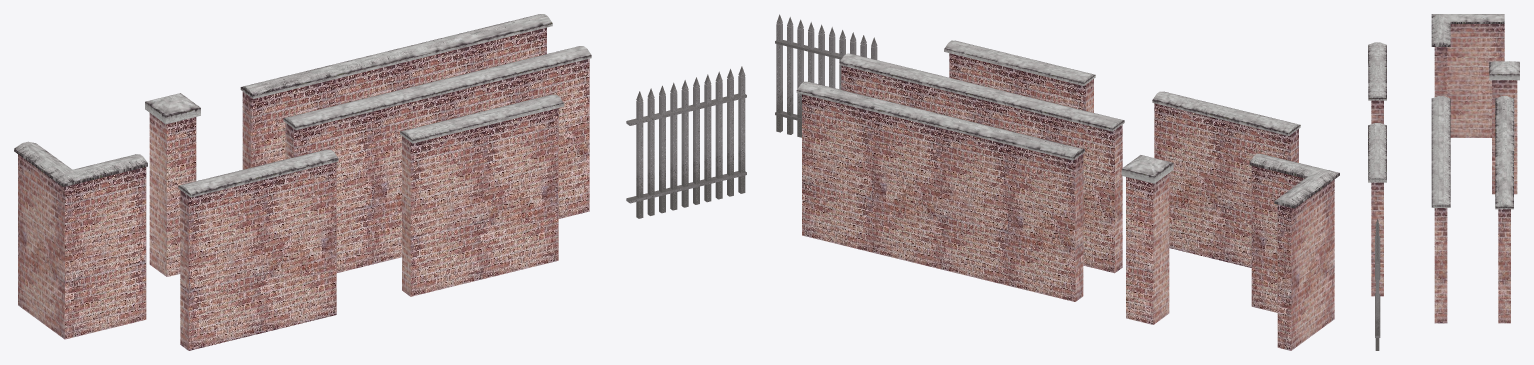
The model's file is brick_wall.glb.
The picture shows the model from 3 angles, left to right: view 1: azimuth 30°, elevation 25°; view 2: azimuth 150°, elevation 25°; view 3: azimuth 270°, elevation 25°; orthographic projection. The views are drawn at different scales.
Visible parts, largest first — view 1: brick_wall_one_overhang_small, brick_wall_small, brick_wall, brick_Wall_corner, brick_wall_one_overhang, brick_wall_gate, brick_wall_pole; view 2: brick_wall_one_overhang, brick_wall_small, brick_wall, brick_Wall_corner, brick_wall_pole, brick_wall_one_overhang_small, brick_wall_gate; view 3: brick_Wall_corner, brick_wall, brick_wall_one_overhang, brick_wall_one_overhang_small, brick_wall_pole, brick_wall_small, brick_wall_gate.
Part boxes in pixels (x1,y1,x2,y2): brick_wall_one_overhang_small: (400,94,564,296); brick_wall_small: (178,149,338,350); brick_wall: (283,46,591,272); brick_Wall_corner: (14,141,147,339); brick_wall_one_overhang: (240,14,552,169); brick_wall_gate: (626,66,746,218); brick_wall_pole: (145,93,200,276); brick_wall_one_overhang: (796,81,1084,301); brick_wall_small: (1152,91,1300,267); brick_wall: (839,53,1124,273); brick_Wall_corner: (1249,153,1339,350); brick_wall_pole: (1121,155,1173,324); brick_wall_one_overhang_small: (944,40,1095,112); brick_wall_gate: (775,14,877,137); brick_Wall_corner: (1431,14,1504,137); brick_wall: (1431,96,1450,323); brick_wall_one_overhang: (1495,96,1514,323); brick_wall_one_overhang_small: (1368,123,1386,296); brick_wall_pole: (1489,61,1519,194); brick_wall_small: (1368,42,1386,123); brick_wall_gate: (1375,219,1380,350).
Size of the model in its own units: 8.73 by 2.2 by 2.39.
Materials: 3 (3 with a texture image).
